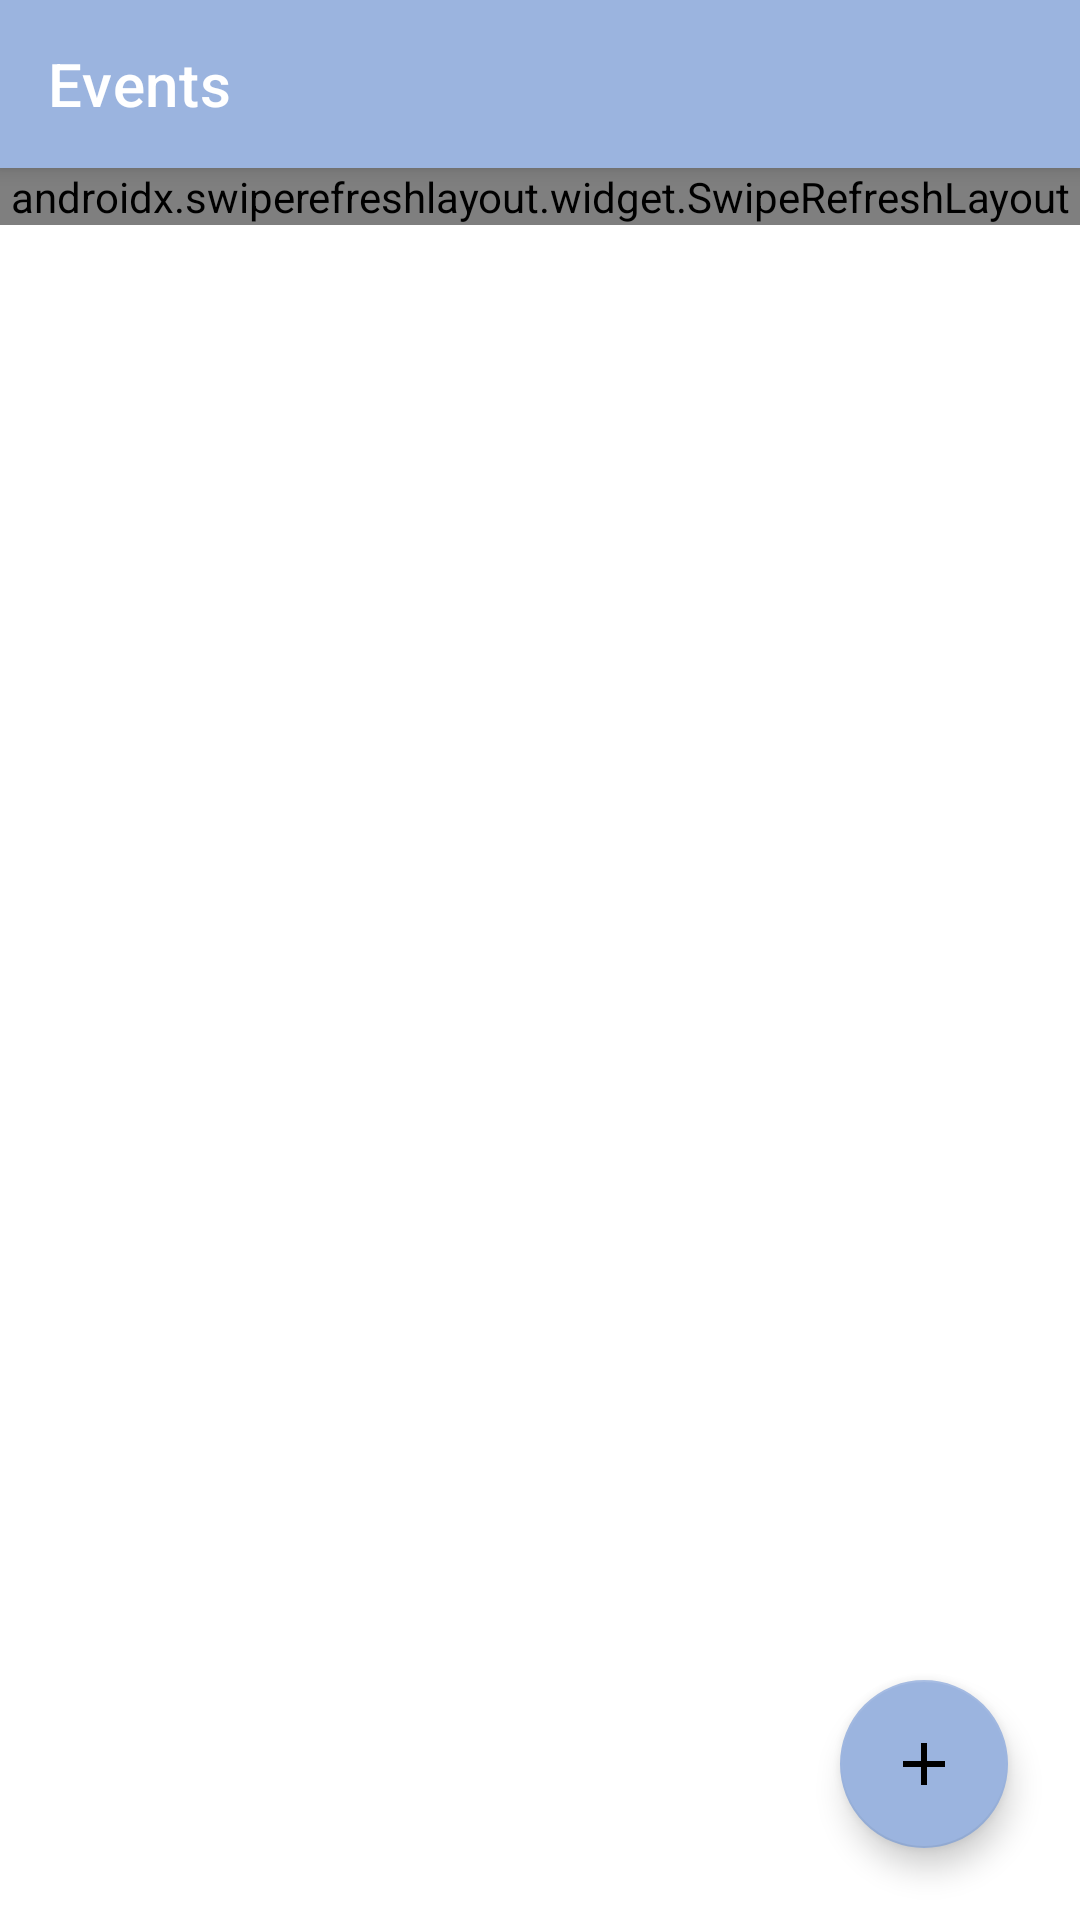

Named icons in this screenshot (1080 × 1920) and their bounding boxes, (x1, y1, x2, y2):
Button for creating a new event: (840, 1680, 1008, 1848)
